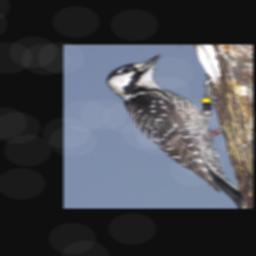Woodpecker: (104, 53, 245, 208)
